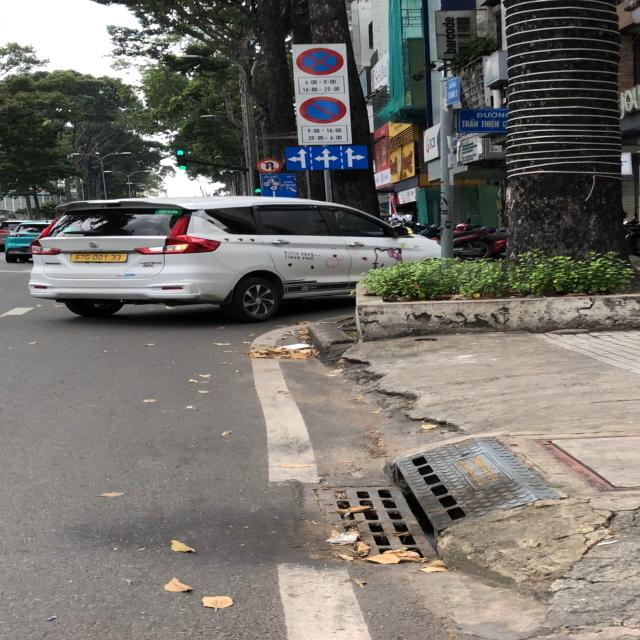Bien bao cam do xe: (300, 94, 348, 124)
Bien bao cam dung xe va do xe: (293, 46, 343, 77)
Bien bao cam quay dau xe: (256, 156, 283, 174)
